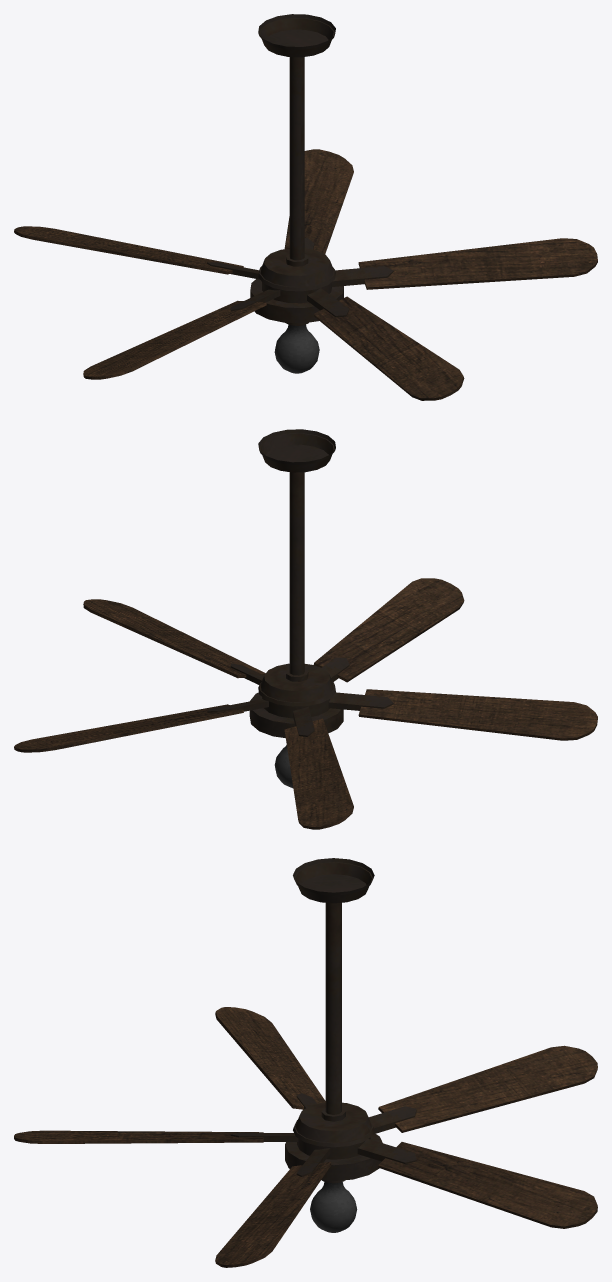
Rendered from ceiling_fan_mp_2_1_light_off.dae.
3 renders of one model, top to bottom at view 1: azimuth 30°, elevation 25°; view 2: azimuth 150°, elevation 25°; view 3: azimuth 270°, elevation 25°, orthographic. The views are drawn at different scales.
Parts seen in each view (by area): view 1: ceiling_fan_mp_2_1_light_off_blades, ceiling_fan_mp_2_1_light_off; view 2: ceiling_fan_mp_2_1_light_off_blades, ceiling_fan_mp_2_1_light_off; view 3: ceiling_fan_mp_2_1_light_off_blades, ceiling_fan_mp_2_1_light_off.
Part boxes in pixels (x1,y1,x2,y2): ceiling_fan_mp_2_1_light_off_blades: (14, 149, 597, 400); ceiling_fan_mp_2_1_light_off: (250, 14, 343, 373); ceiling_fan_mp_2_1_light_off_blades: (14, 578, 597, 829); ceiling_fan_mp_2_1_light_off: (249, 429, 343, 788); ceiling_fan_mp_2_1_light_off_blades: (14, 1007, 597, 1267); ceiling_fan_mp_2_1_light_off: (285, 858, 382, 1232).
Bounding box in the file's own units: 1.11 × 1.06 × 0.7128.
3 materials, 3 textured.
